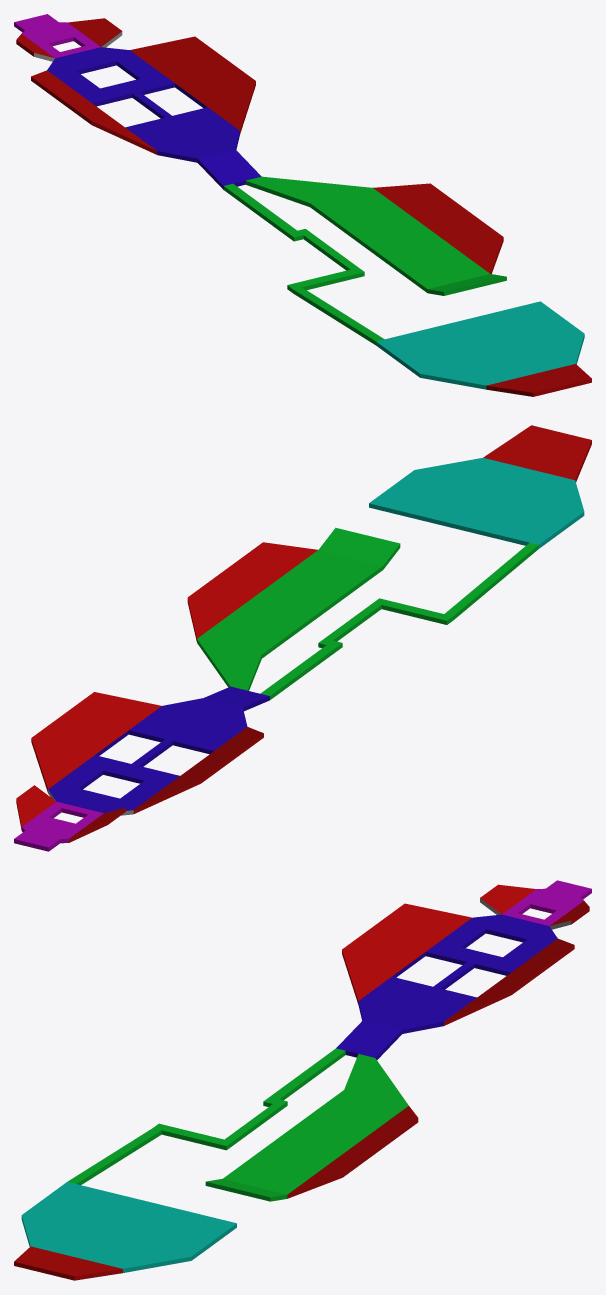
The model's file is Level.fbx.
3 renders of one model, top to bottom at view 1: azimuth 30°, elevation 25°; view 2: azimuth 150°, elevation 25°; view 3: azimuth 330°, elevation 25°, orthographic. The views are drawn at different scales.
Visible parts, largest first — view 1: pCube1; view 2: pCube1; view 3: pCube1.
Part boxes in pixels (x1,y1,x2,y2): pCube1: [14, 14, 591, 396]; pCube1: [14, 425, 591, 851]; pCube1: [14, 880, 591, 1280].
Bounding box in the file's own units: 1066 × 167 × 4672.
